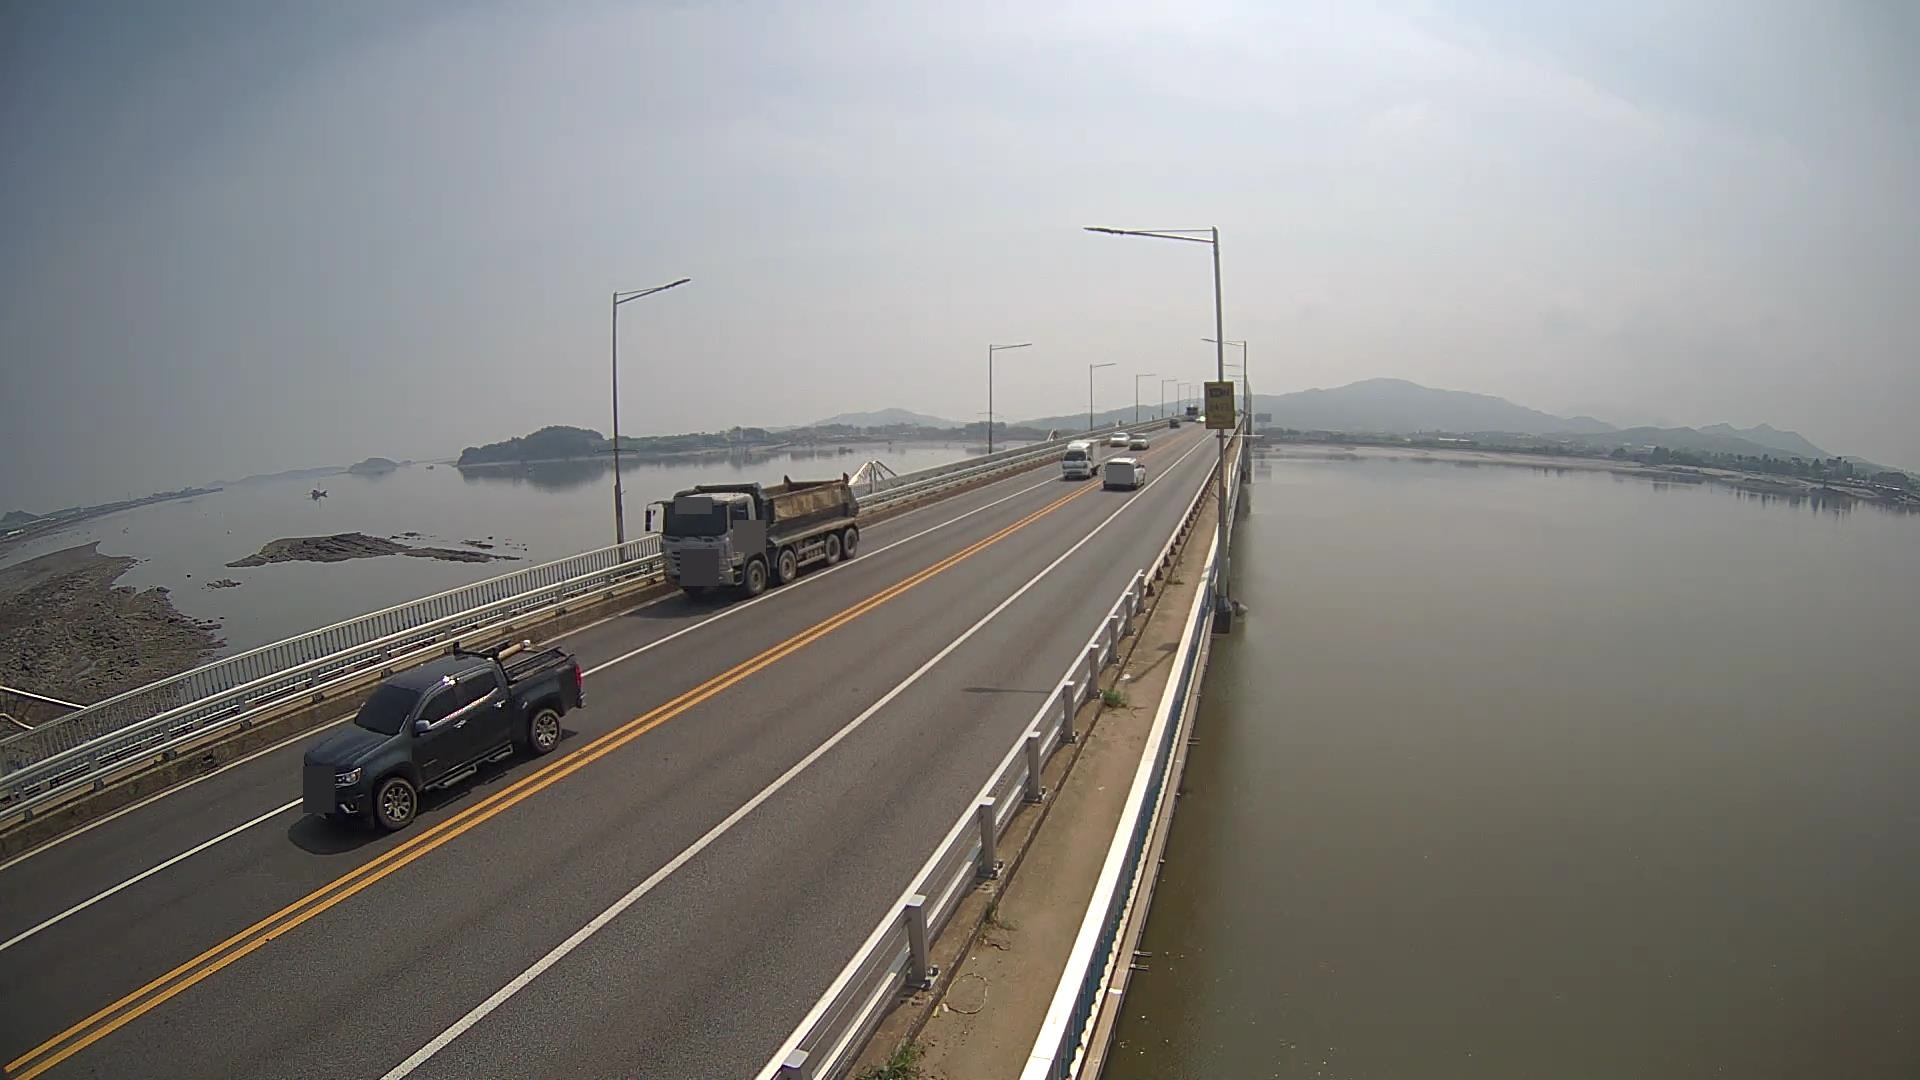정상차량: (645, 472, 860, 596)
